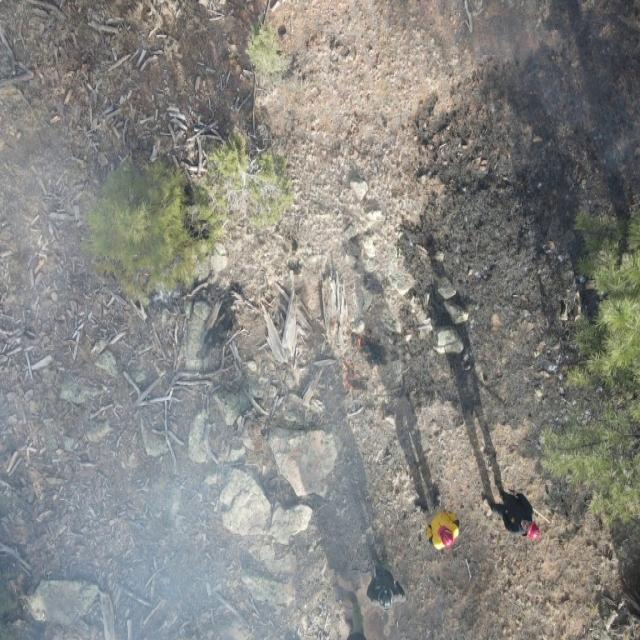fire: (338, 358, 364, 397), (353, 332, 367, 352), (330, 318, 342, 332)
smoke: (0, 0, 137, 640), (136, 262, 358, 640), (471, 0, 640, 176)
